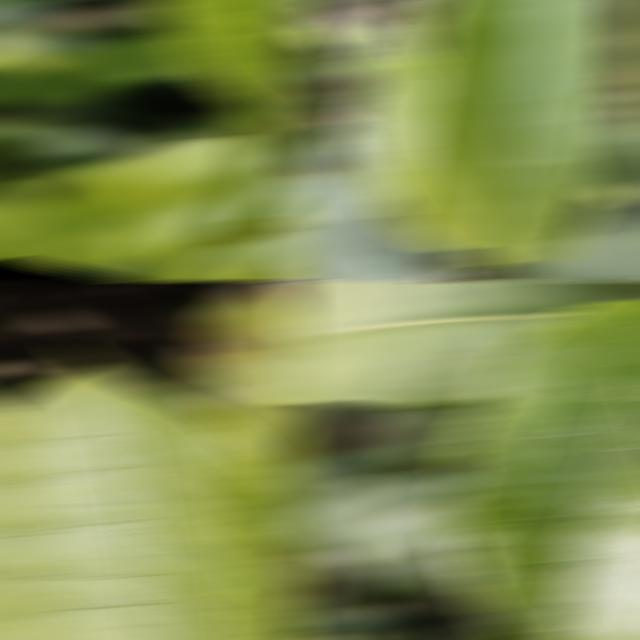Leaf: (0, 352, 305, 640), (441, 300, 640, 640), (406, 0, 631, 264), (283, 282, 619, 409), (345, 1, 482, 249), (186, 282, 305, 481), (157, 0, 305, 127), (283, 138, 392, 280), (324, 471, 468, 565), (283, 451, 389, 551), (329, 202, 448, 280), (0, 182, 90, 265), (597, 132, 640, 185)
